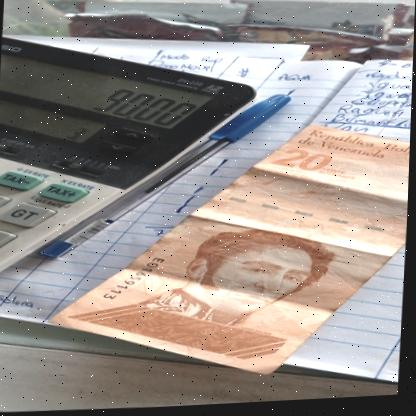twenty-front-vef: (0, 9, 357, 283)
